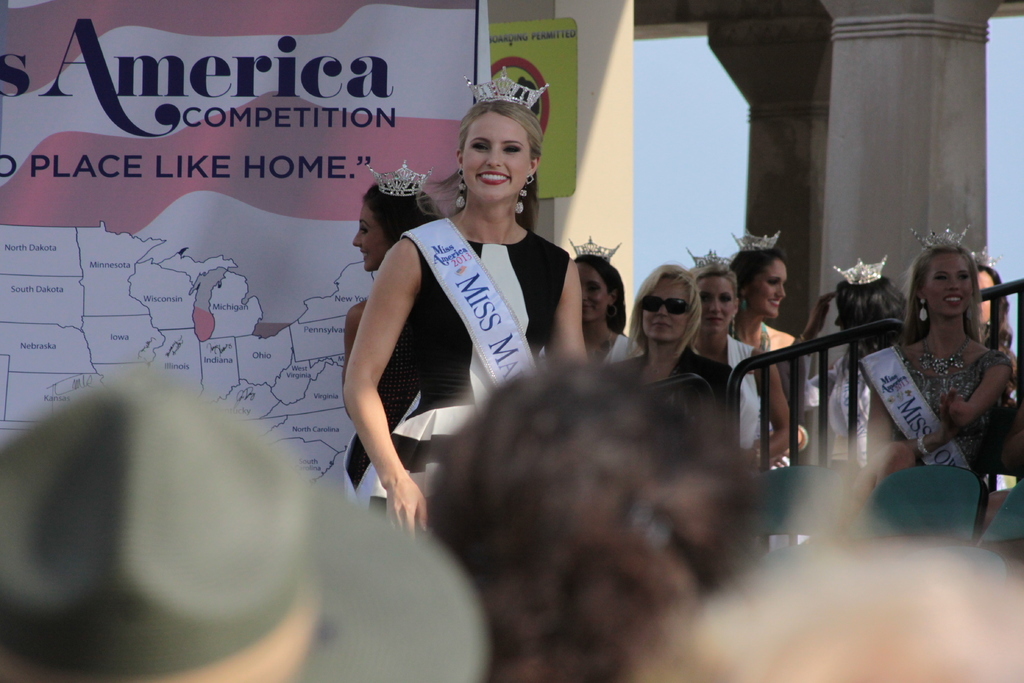Human_hand: (365, 438, 435, 531), (804, 292, 838, 336), (937, 386, 963, 443), (878, 437, 916, 459), (735, 445, 753, 470), (773, 455, 792, 468)
